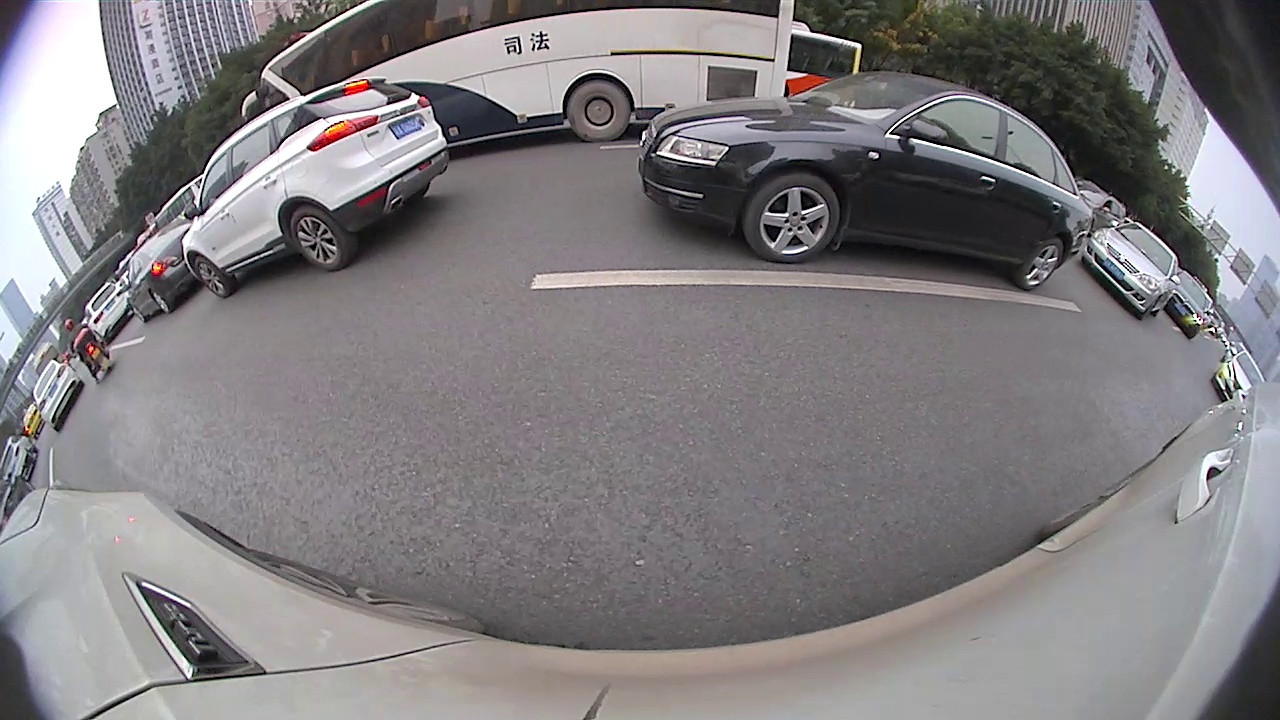bus: (238, 4, 802, 141), (786, 19, 864, 100), (153, 173, 209, 228)
car: (639, 66, 1088, 294), (179, 71, 450, 300), (1082, 216, 1180, 320), (121, 219, 206, 326), (27, 361, 84, 431), (74, 281, 136, 345), (1167, 264, 1212, 346), (1072, 177, 1125, 241), (1213, 342, 1264, 398), (1, 431, 39, 483)
front: (744, 175, 841, 262), (190, 259, 237, 297), (129, 303, 146, 321)
rear: (289, 207, 357, 269), (565, 80, 629, 142), (1016, 241, 1068, 290), (148, 289, 171, 313)
rider: (58, 317, 111, 381)
